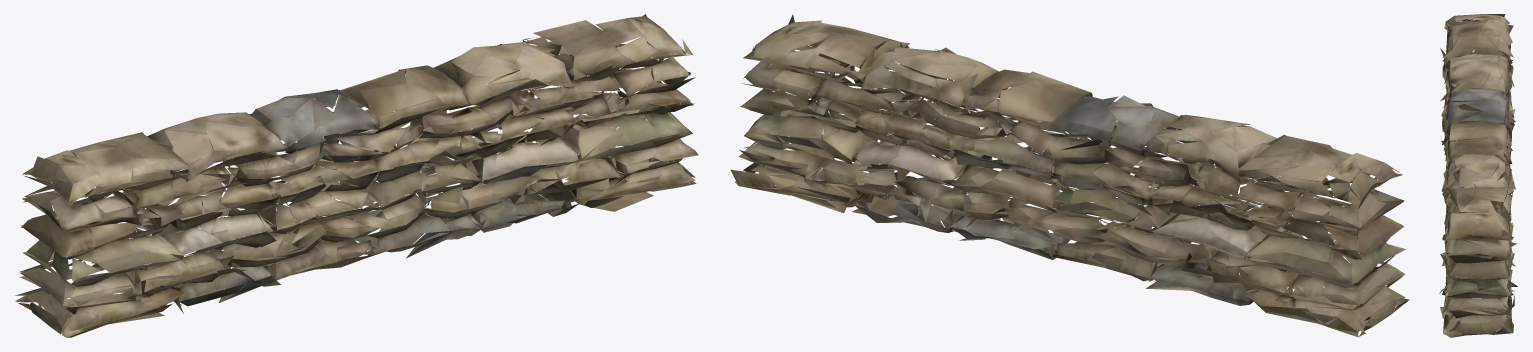
File: sandbags.glb
3 views of the same model, side by side, from view 1: azimuth 30°, elevation 25°; view 2: azimuth 150°, elevation 25°; view 3: azimuth 270°, elevation 25° (orthographic). The views are drawn at different scales.
Visible parts, largest first — view 1: Mesh_0; view 2: Mesh_0; view 3: Mesh_0.
Boxes of the visible parts, left/top/right/bottom form: Mesh_0: left=14, top=14, right=698, bottom=337; Mesh_0: left=730, top=14, right=1409, bottom=337; Mesh_0: left=1439, top=14, right=1517, bottom=337.
Bounding box in the file's own units: 1.91 × 0.4747 × 0.2877.
Materials: 1 (1 with a texture image).
